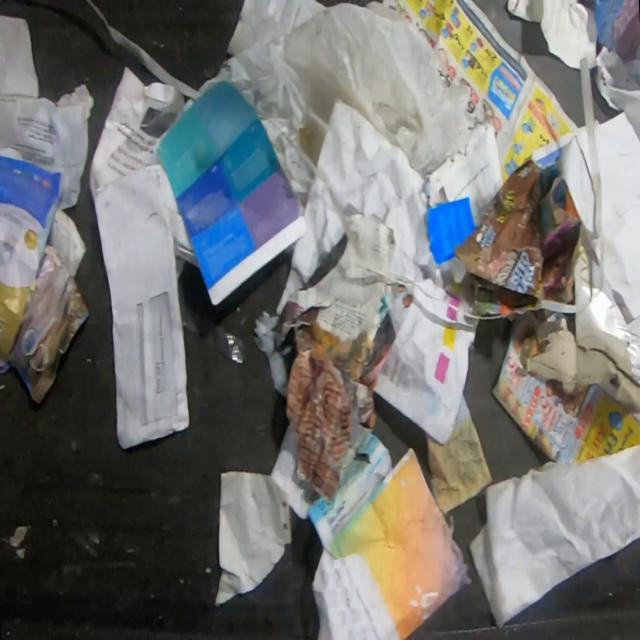cardboard: (558, 137, 640, 387), (520, 329, 640, 414), (426, 118, 503, 225)
soft_plastic: (198, 0, 473, 213), (322, 444, 472, 640), (178, 276, 247, 365), (425, 197, 478, 264)
